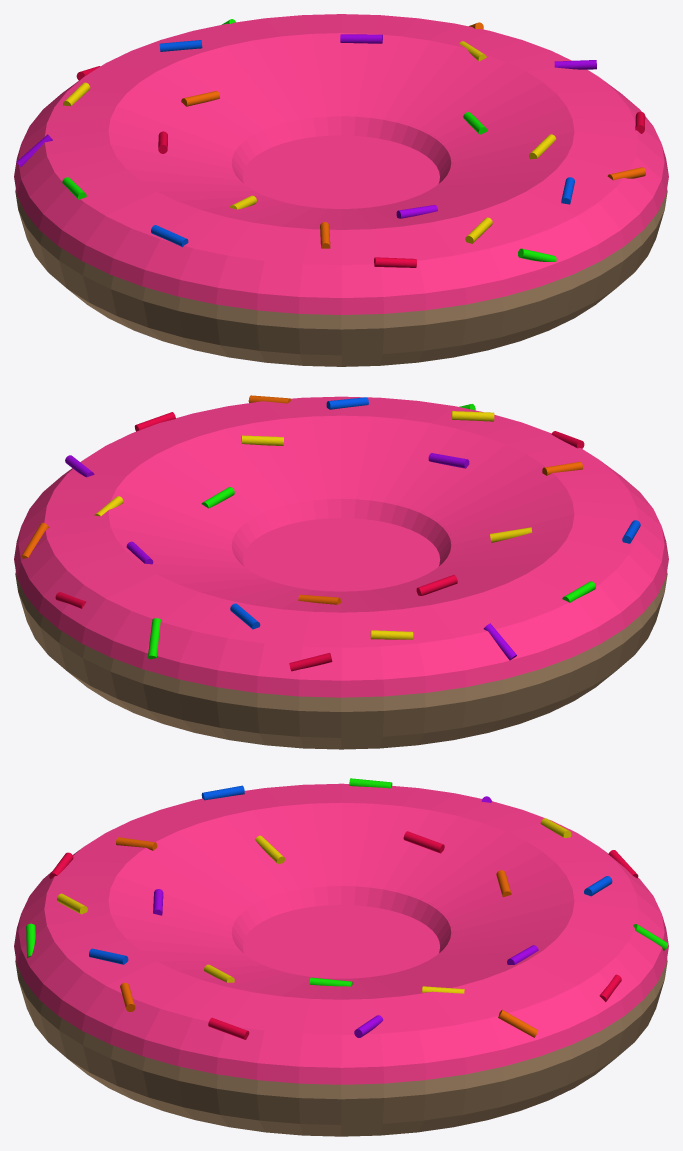
Rendered from Donut.fbx.
3 renders of one model, top to bottom at view 1: azimuth 30°, elevation 25°; view 2: azimuth 150°, elevation 25°; view 3: azimuth 270°, elevation 25°, orthographic.
Visible parts, largest first — view 1: Icing, Donut; view 2: Icing, Donut; view 3: Icing, Donut.
Boxes of the visible parts, x1,y1,x2,y2 form: Icing: (14, 14, 668, 314); Donut: (15, 115, 667, 366); Icing: (14, 396, 668, 697); Donut: (15, 497, 667, 749); Icing: (14, 783, 668, 1084); Donut: (15, 884, 667, 1136).
Bounding box in the file's own units: 68.3 × 14.28 × 68.3.
